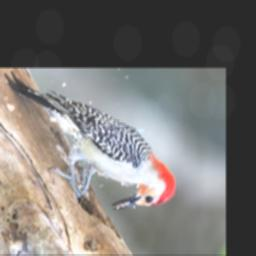Woodpecker: (6, 74, 176, 210)
